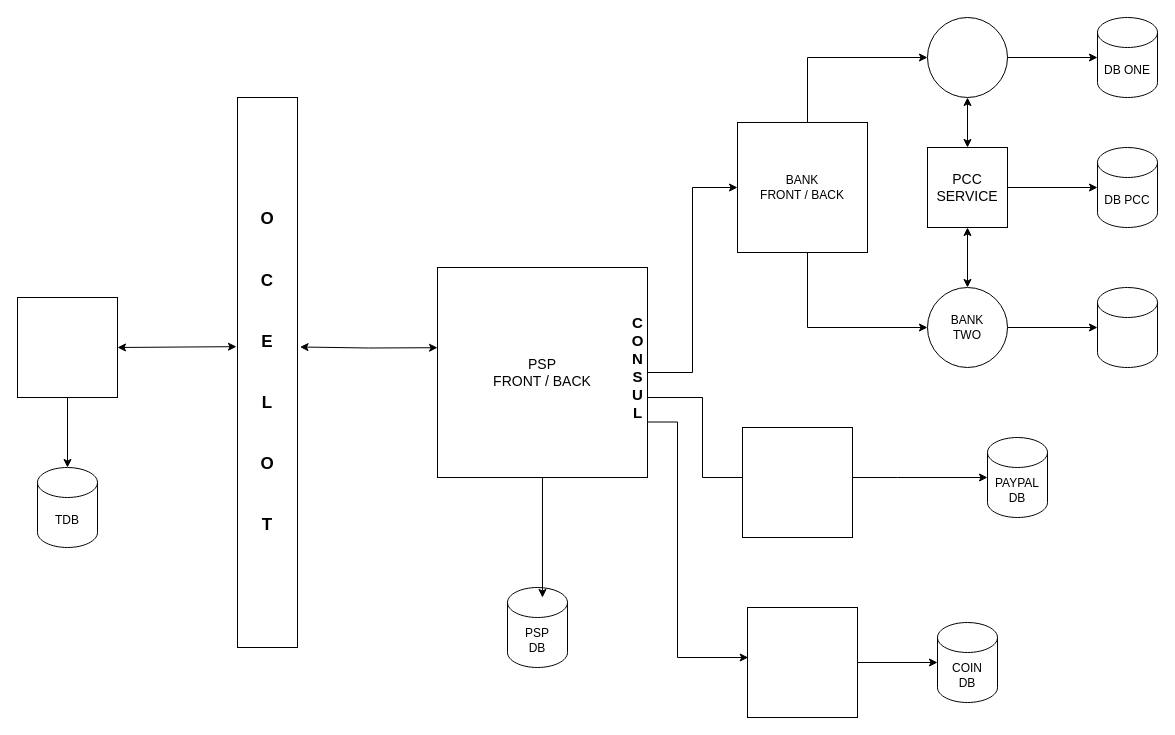
The diagram is 1175 pixels wide and 735 high, and some of its shapes have lost their labels. Each missing label, with the centre of its shape:
BANK ONE: the point at 967,57
COIN SERVICE: the point at 802,662
DB TWO: the point at 1127,327
PAYPAL SERVICE: the point at 797,482
TELECOM WEBSHOP FRONT / BACK: the point at 67,347
